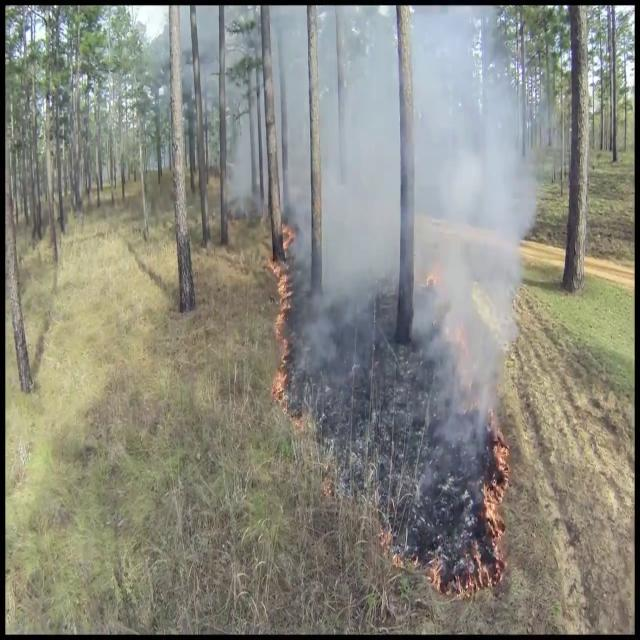Fire: (266, 252, 302, 450)
Smoke: (233, 4, 542, 373)
